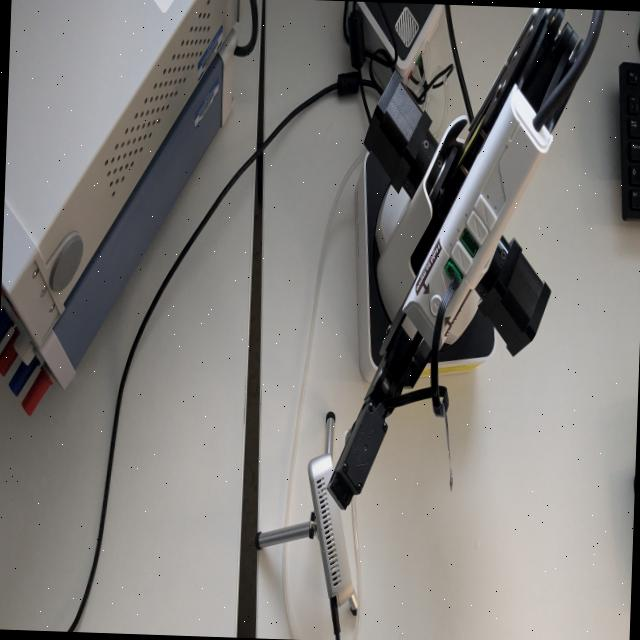Robot-end-effector-HF8z: (324, 398, 391, 519)
